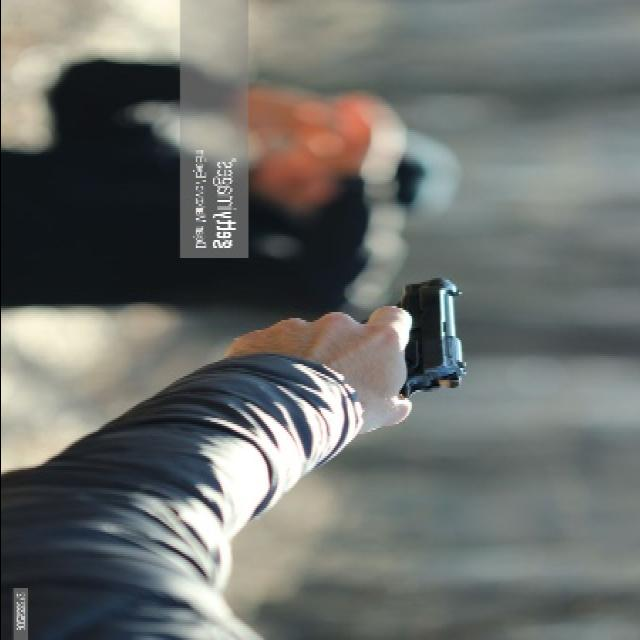handgun: (391, 271, 478, 407)
